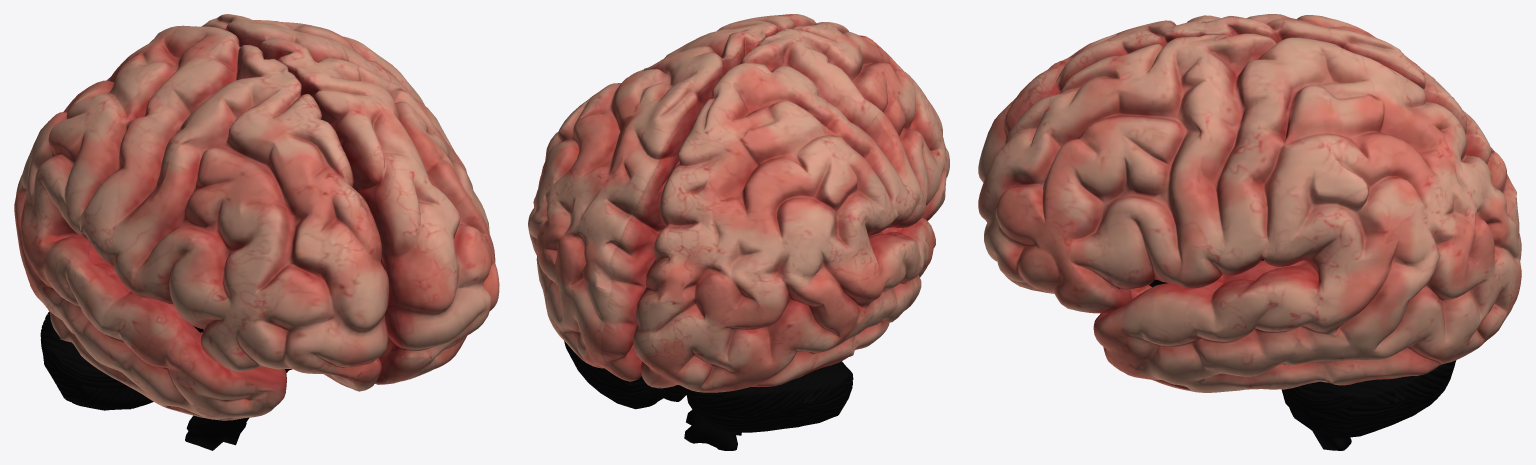
Rendered from brain.glb.
3 views of the same model, side by side, from view 1: azimuth 30°, elevation 25°; view 2: azimuth 150°, elevation 25°; view 3: azimuth 270°, elevation 25° (orthographic). The views are drawn at different scales.
Visible parts, largest first — view 1: Brain_Part_06, Brain_Part_04, Brain_Part_02, Brain_Part_05; view 2: Brain_Part_06, Brain_Part_04, Brain_Part_02, Brain_Part_05; view 3: Brain_Part_04, Brain_Part_06, Brain_Part_02, Brain_Part_05.
Boxes of the visible parts, bbox=[...] form: Brain_Part_06: bbox=[14, 25, 388, 420]; Brain_Part_04: bbox=[201, 14, 499, 384]; Brain_Part_02: bbox=[40, 312, 292, 410]; Brain_Part_05: bbox=[185, 326, 289, 450]; Brain_Part_06: bbox=[633, 22, 949, 392]; Brain_Part_04: bbox=[528, 14, 816, 381]; Brain_Part_02: bbox=[564, 341, 853, 432]; Brain_Part_05: bbox=[684, 409, 741, 450]; Brain_Part_04: bbox=[978, 33, 1521, 392]; Brain_Part_06: bbox=[978, 14, 1521, 260]; Brain_Part_02: bbox=[1283, 360, 1456, 438]; Brain_Part_05: bbox=[1149, 259, 1351, 450].
Bounding box in the file's own units: 0.1514 × 0.1604 × 0.1887.
Materials: 2 (2 with a texture image).
